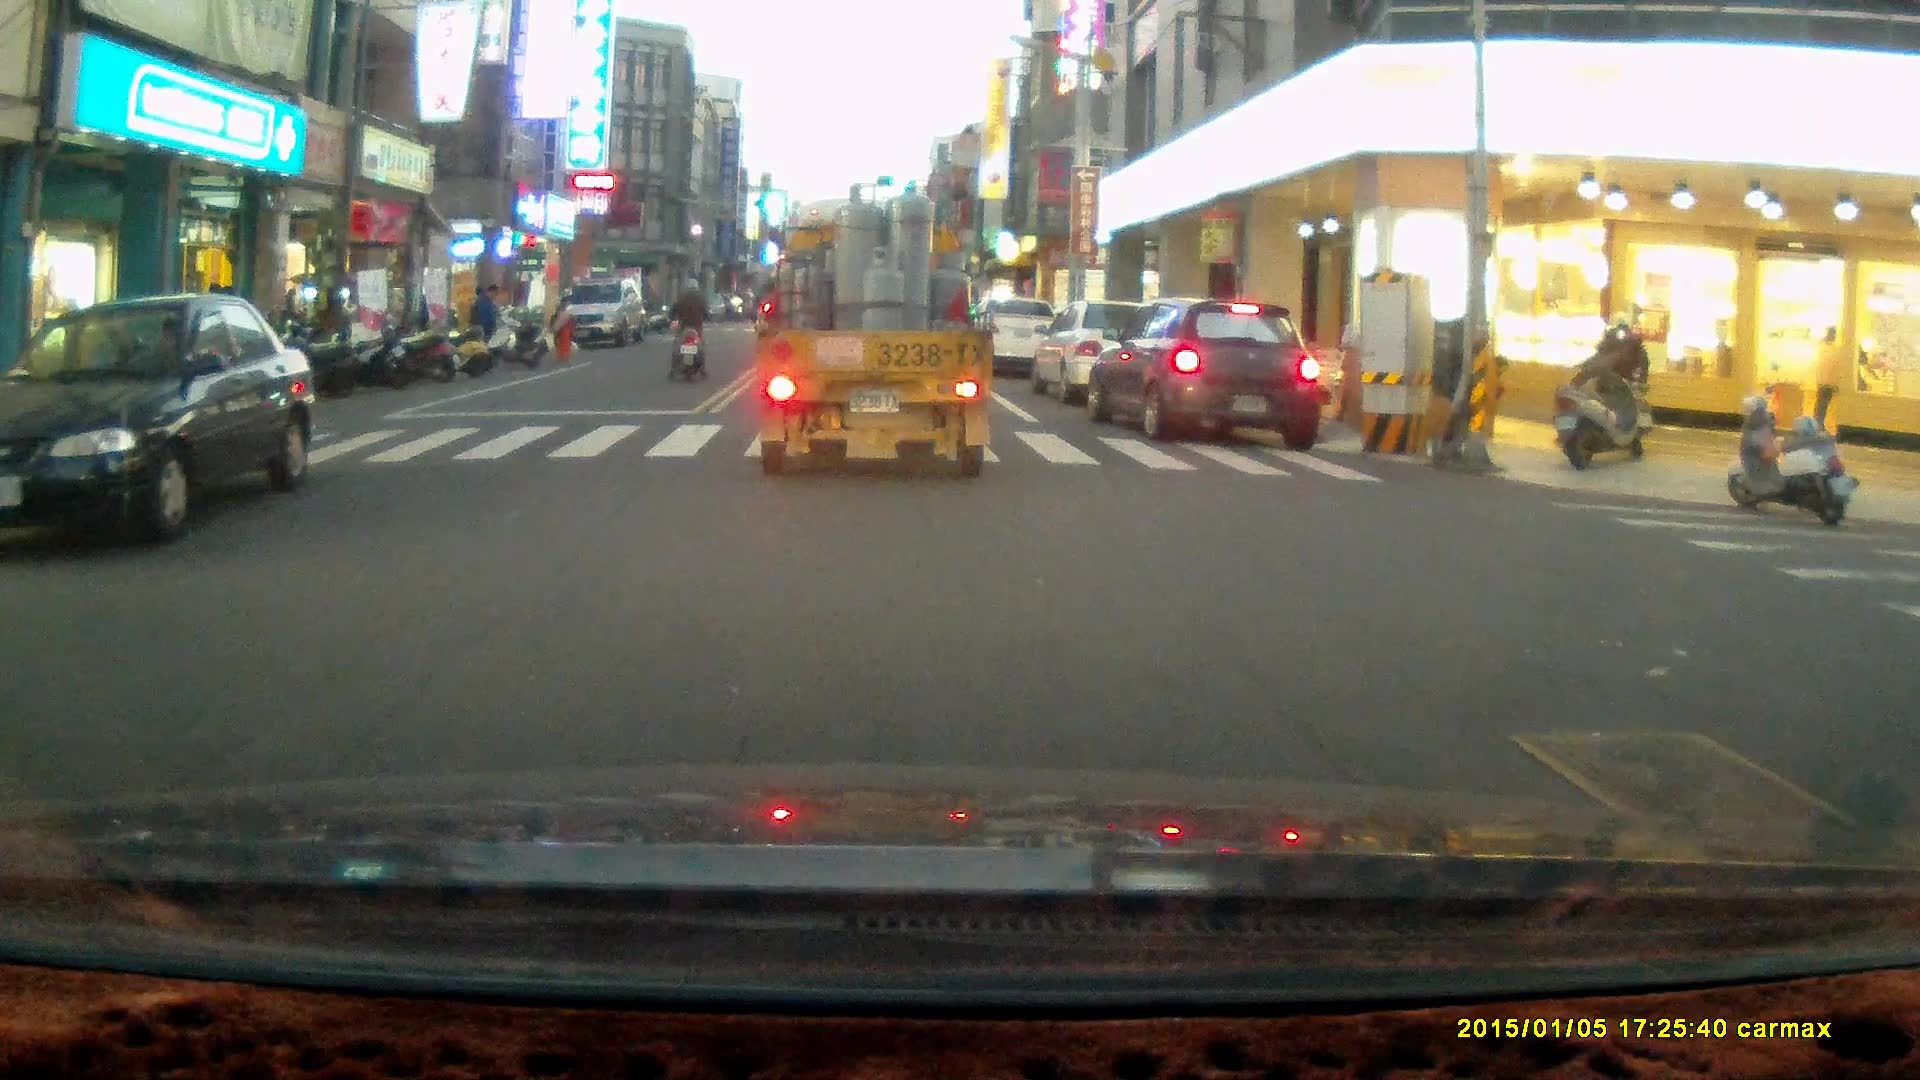pedestrian: (469, 282, 503, 365), (547, 292, 575, 364)
rider: (1552, 311, 1647, 458), (661, 277, 708, 386)
vehicle: (1, 291, 325, 549), (756, 180, 995, 482), (1092, 295, 1323, 448), (1039, 303, 1196, 411), (968, 296, 1065, 379), (562, 282, 654, 352)
